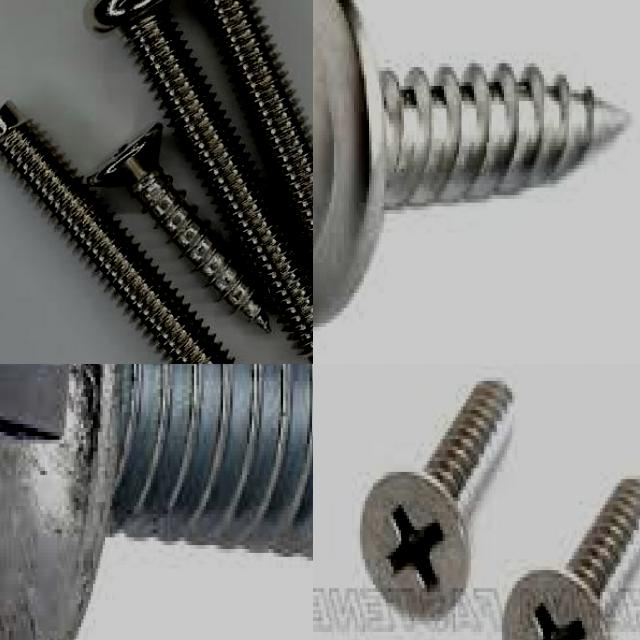Screw: (313, 0, 634, 327), (0, 364, 313, 640), (89, 0, 313, 364), (0, 106, 235, 364), (353, 369, 531, 639), (86, 124, 269, 330), (199, 0, 313, 264), (495, 463, 640, 640)
